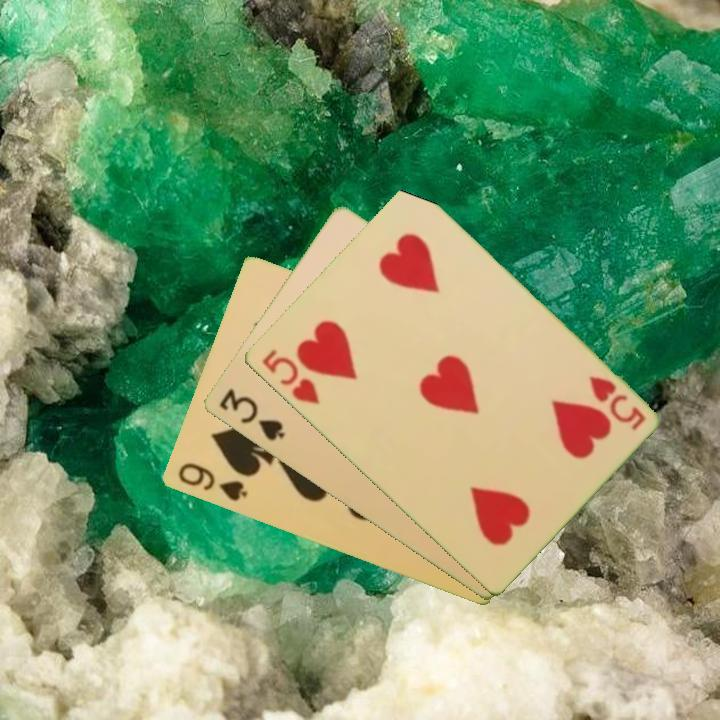3s: (215, 385, 288, 444)
5h: (257, 345, 322, 407), (584, 372, 648, 434)
9s: (174, 459, 250, 505)
